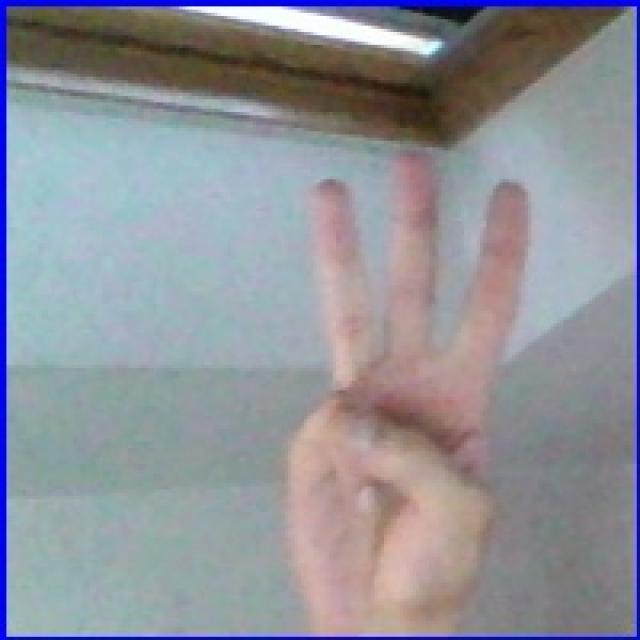Letra-W: (261, 133, 561, 625)
